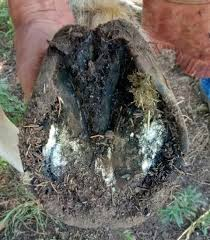horsesole: (19, 36, 188, 229)
